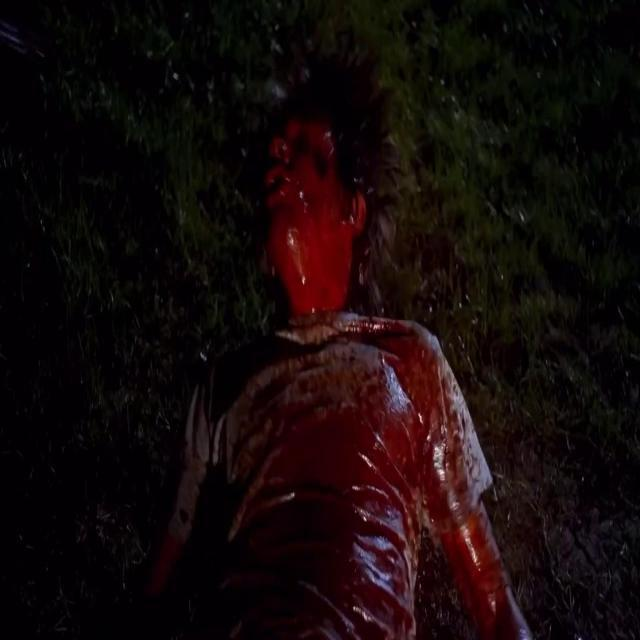flood: (233, 328, 523, 640), (262, 94, 366, 314)
